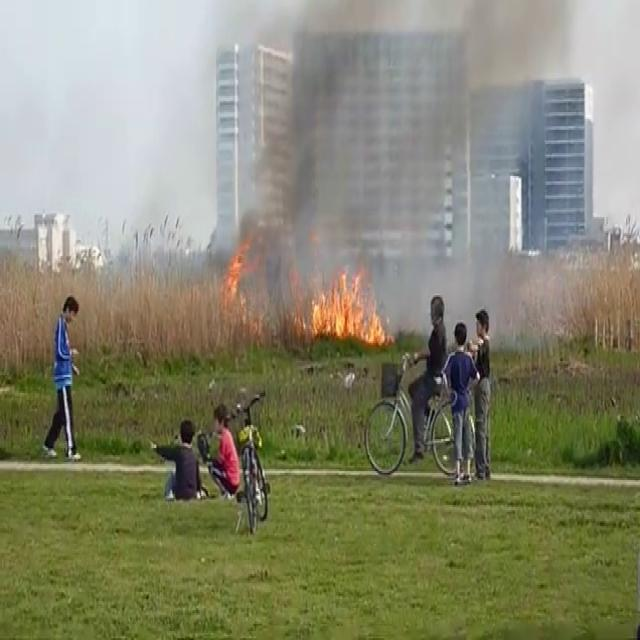Fire: (297, 256, 387, 350), (219, 227, 262, 333)
Smoke: (208, 0, 544, 315)
